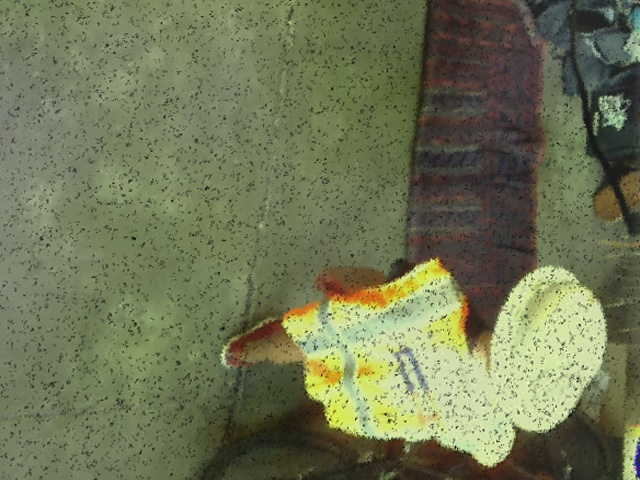eight: (530, 363, 581, 411)
